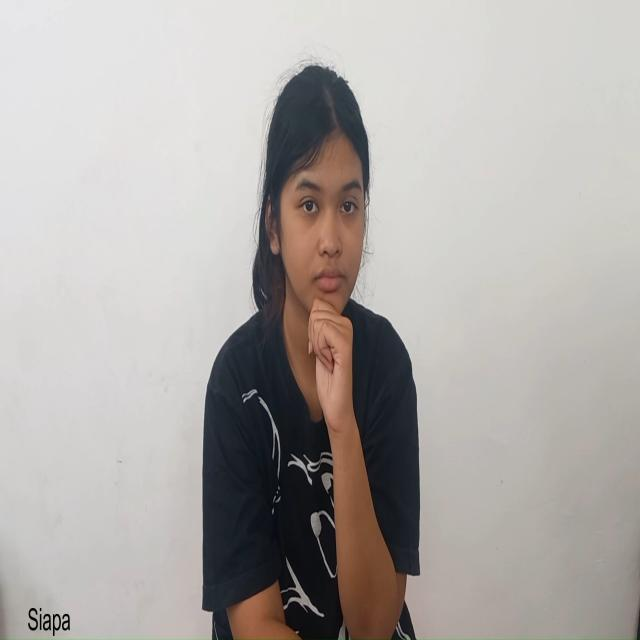Siapa -BISINDO-: (261, 58, 376, 430)
